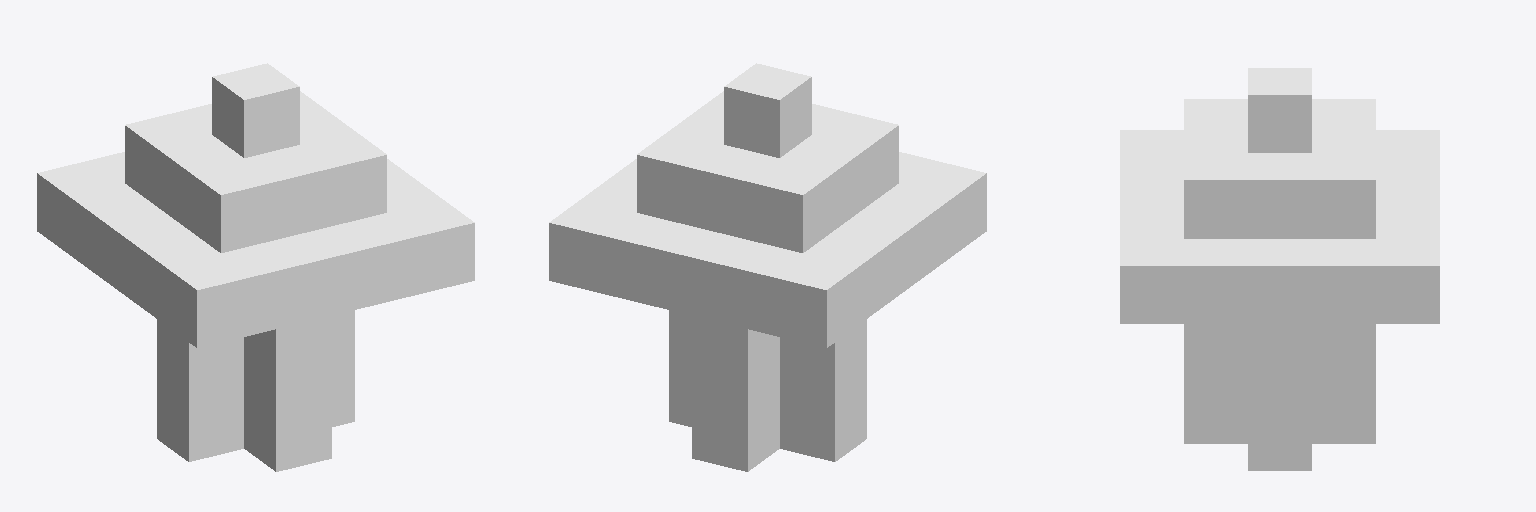
The model's file is Mushroom.obj.
3 renders of one model, left to right at view 1: azimuth 30°, elevation 25°; view 2: azimuth 150°, elevation 25°; view 3: azimuth 270°, elevation 25°, orthographic.
Visible parts, largest first — view 1: object 1; view 2: object 1; view 3: object 1.
Boxes of the visible parts, x1,y1,x2,y2 form: object 1: [37, 63, 474, 471]; object 1: [549, 63, 986, 471]; object 1: [1120, 68, 1439, 470].
Bounding box in the file's own units: 0.5 × 0.6 × 0.5.